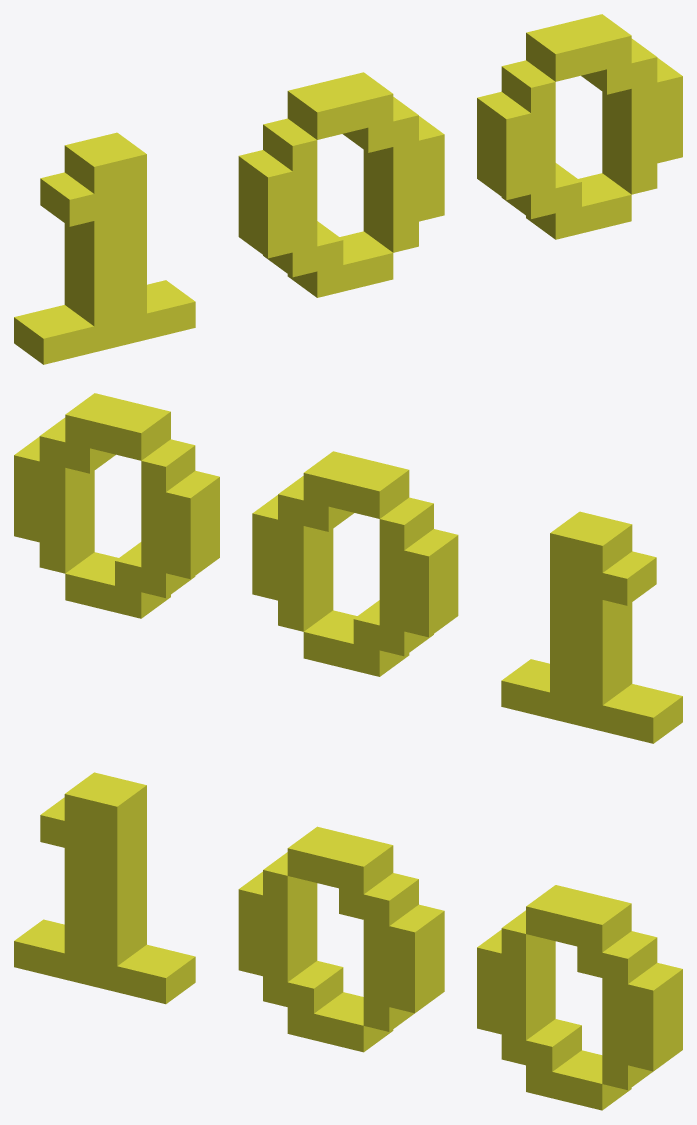
3 renders of one model, top to bottom at view 1: azimuth 30°, elevation 25°; view 2: azimuth 150°, elevation 25°; view 3: azimuth 330°, elevation 25°, orthographic.
Visible parts, largest first — view 1: 0, 0.2, 1; view 2: 0, 0.2, 1; view 3: 0, 0.2, 1.
Boxes of the visible parts, x1=… form: 0: x1=238, y1=72, x2=444, y2=297; 0.2: x1=477, y1=14, x2=682, y2=239; 1: x1=14, y1=132, x2=195, y2=364; 0: x1=252, y1=451, x2=458, y2=676; 0.2: x1=14, y1=393, x2=219, y2=618; 1: x1=501, y1=511, x2=682, y2=743; 0: x1=238, y1=826, x2=444, y2=1052; 0.2: x1=477, y1=885, x2=682, y2=1110; 1: x1=14, y1=772, x2=195, y2=1004.
Bounding box in the file's own units: 375 × 104 × 30.
